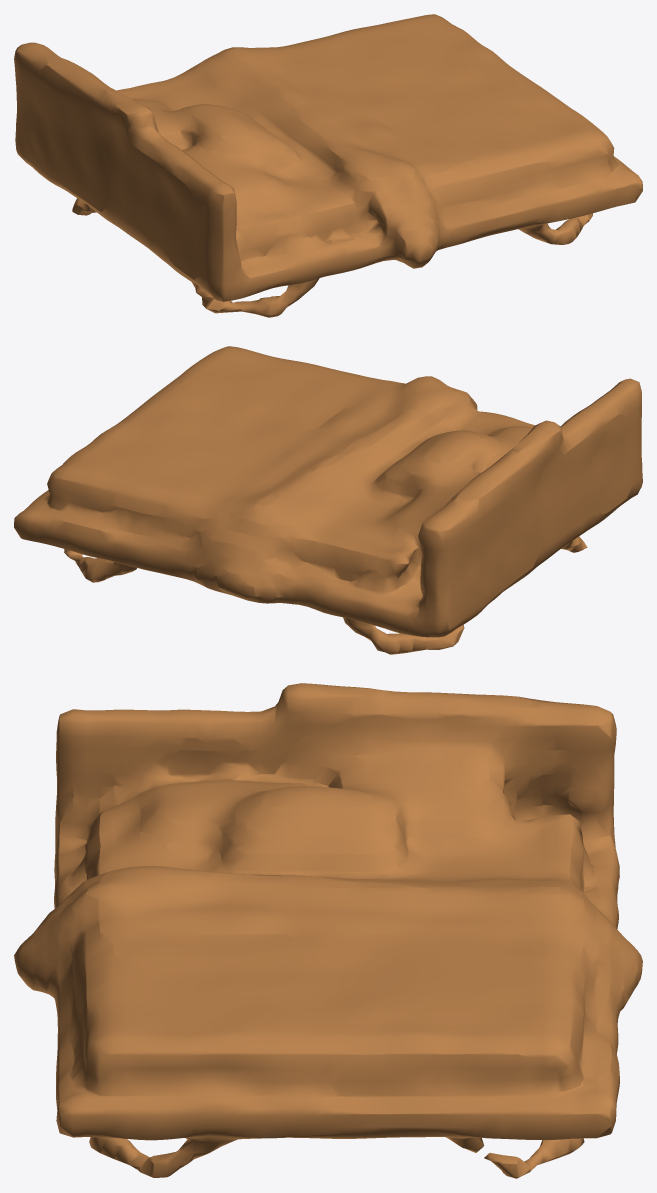
Rendered from bed_1_1.obj.
The picture shows the model from 3 angles, top to bottom: view 1: azimuth 30°, elevation 25°; view 2: azimuth 150°, elevation 25°; view 3: azimuth 270°, elevation 25°; orthographic projection. The views are drawn at different scales.
Bounding box in the file's own units: 0.7958 × 0.3004 × 0.7318.
